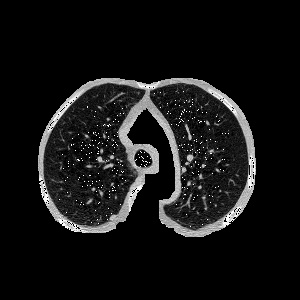PN: (109, 214, 115, 220)
